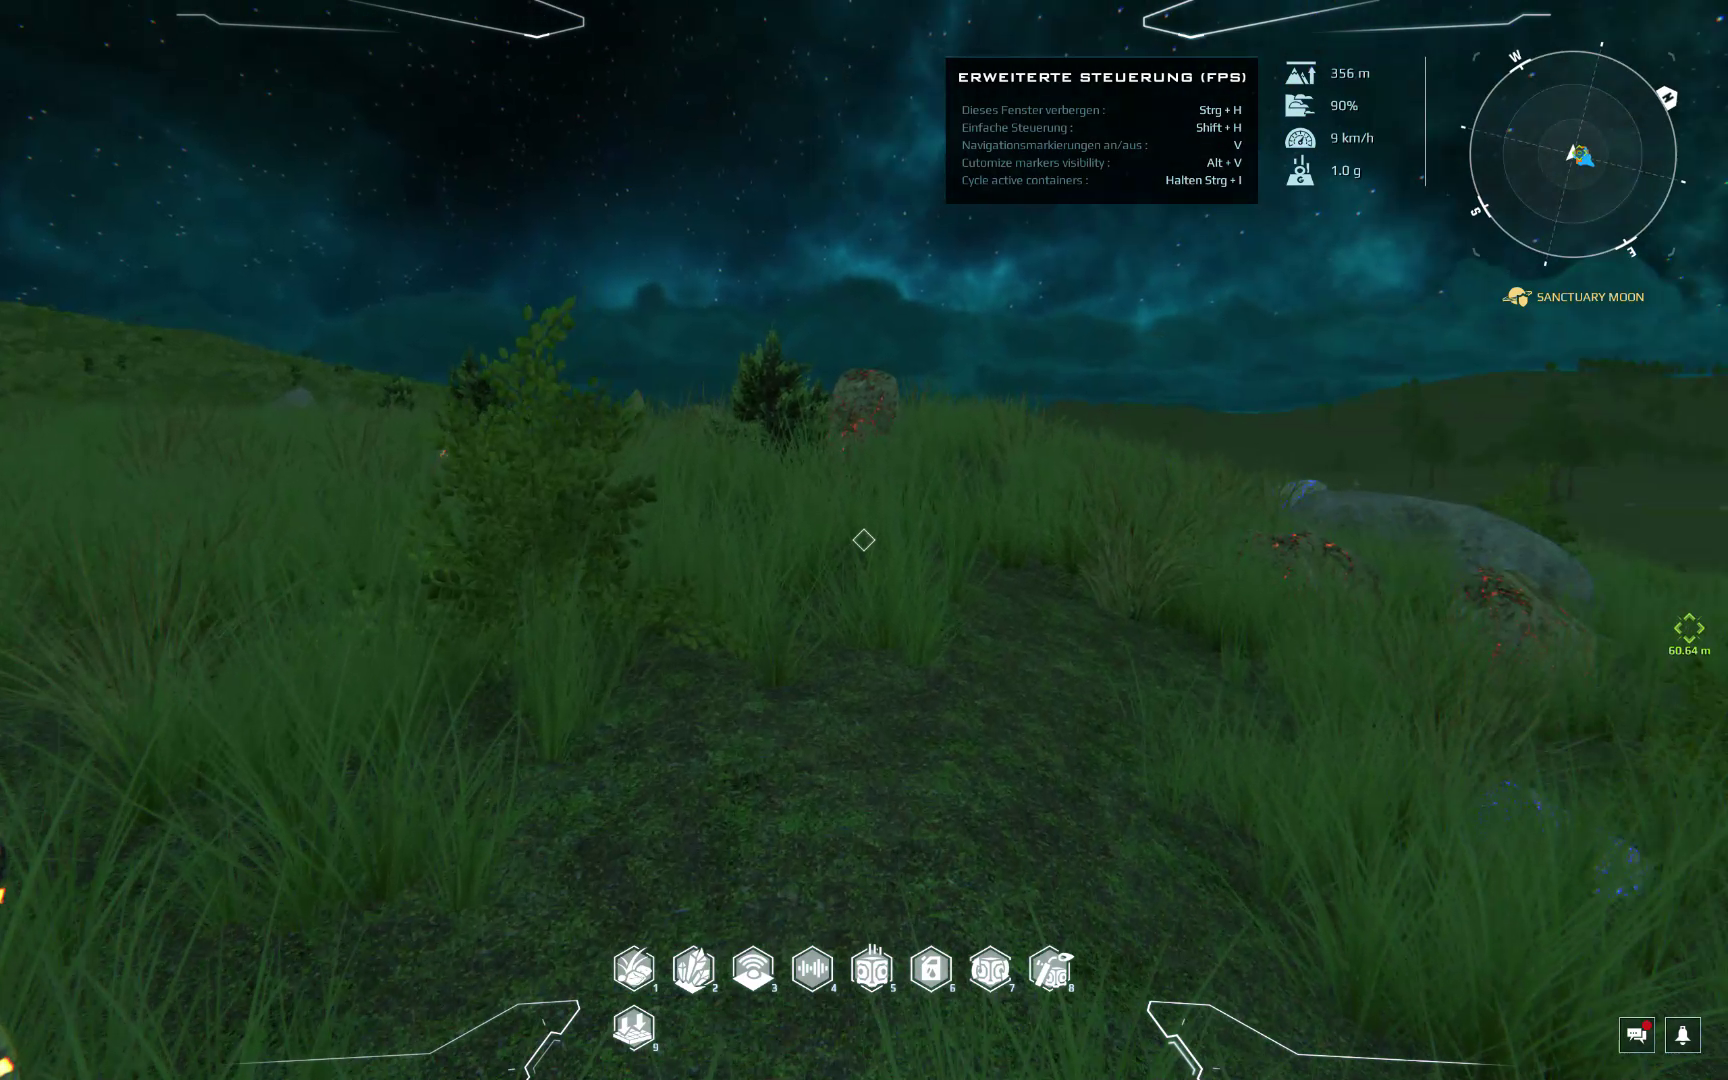Ore: (1426, 753, 1660, 910), (1443, 551, 1614, 681), (1247, 528, 1387, 611), (822, 360, 902, 452), (1274, 468, 1331, 516), (424, 434, 457, 469)
